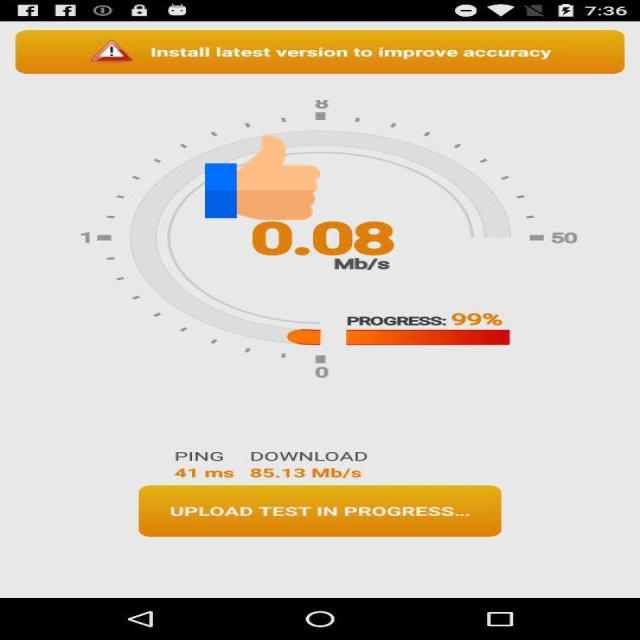privacy zuckering: (205, 133, 320, 222)
